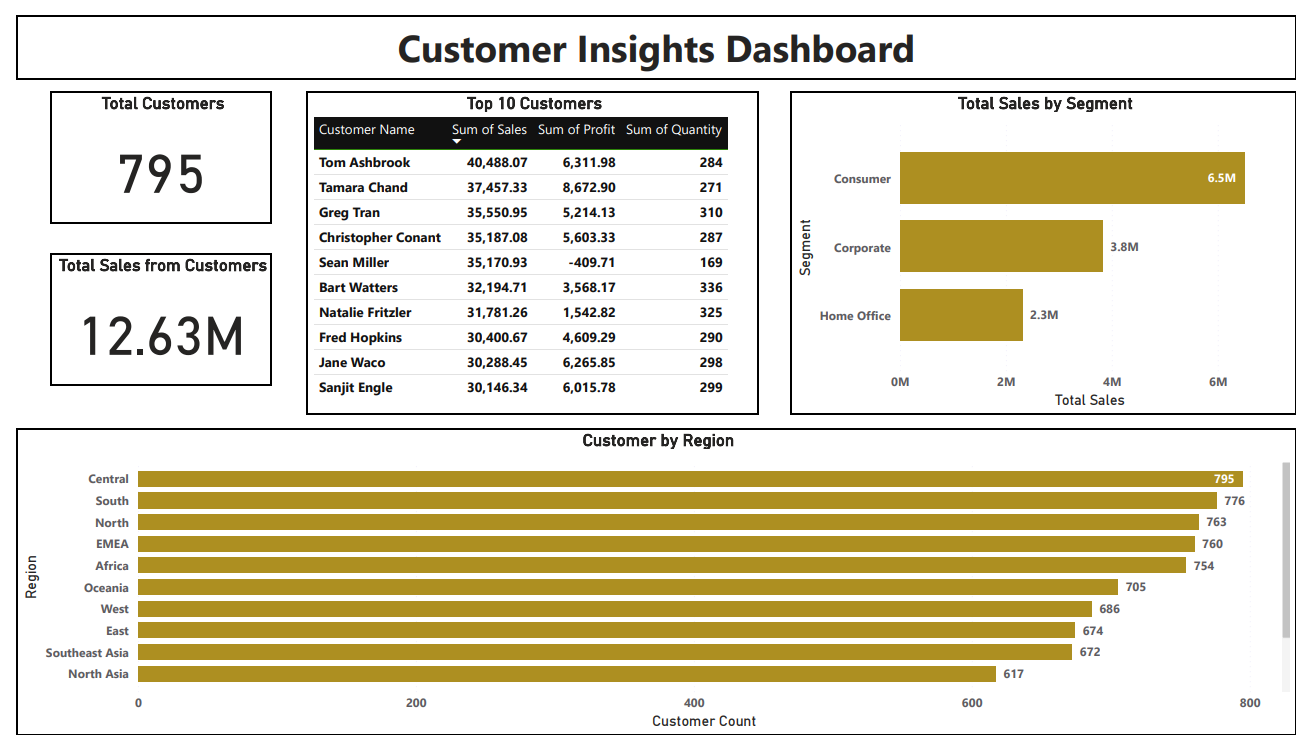

The dashboard page shown, as its layout file describes it:
{"tool":"powerbi","page":{"name":"Customer Insights","canvas":[1280,720],"ordinal":2},"visuals":[{"type":"textbox","box":[0,0,1280.8,64.8],"z":0},{"type":"tableEx","title":"Top 10 Customers","fields":{"Values":["Global_Superstore2.Customer Name","Sum(Global_Superstore2.Sales)","Sum(Global_Superstore2.Profit)","Sum(Global_Superstore2.Quantity)"]},"box":[289.8,76.1,453.4,323.8],"z":1000},{"type":"clusteredBarChart","title":"Total Sales by Segment","fields":{"Category":["Global_Superstore2.Segment"],"Y":["Sum(Global_Superstore2.Sales)"]},"box":[774,76.1,506.8,323.8],"z":3000},{"type":"card","title":"Total Customers","fields":{"Values":["Count(Global_Superstore2.Customer Name)"]},"box":[34,76.1,221.8,132.8],"z":4000},{"type":"barChart","title":"Customer by Region","fields":{"Y":["Count(Global_Superstore2.Customer ID)"],"Category":["Global_Superstore2.Region"]},"box":[0,412.9,1280.8,307.7],"z":5000},{"type":"card","title":"Total Sales from Customers","fields":{"Values":["Sum(Global_Superstore2.Sales)"]},"box":[34,238,221.8,132.8],"z":6000}]}

Visuals, with their boxes in screenshot pixels (x1, y1, x2, y2), scaled from the page's 1280x720 canvas onto the 1311x748 screenshot:
textbox: crop(0, 0, 1310, 67)
"Top 10 Customers" tableEx: crop(297, 79, 761, 415)
"Total Sales by Segment" clusteredBarChart: crop(793, 79, 1310, 415)
"Total Customers" card: crop(35, 79, 262, 217)
"Customer by Region" barChart: crop(0, 429, 1310, 747)
"Total Sales from Customers" card: crop(35, 247, 262, 385)
